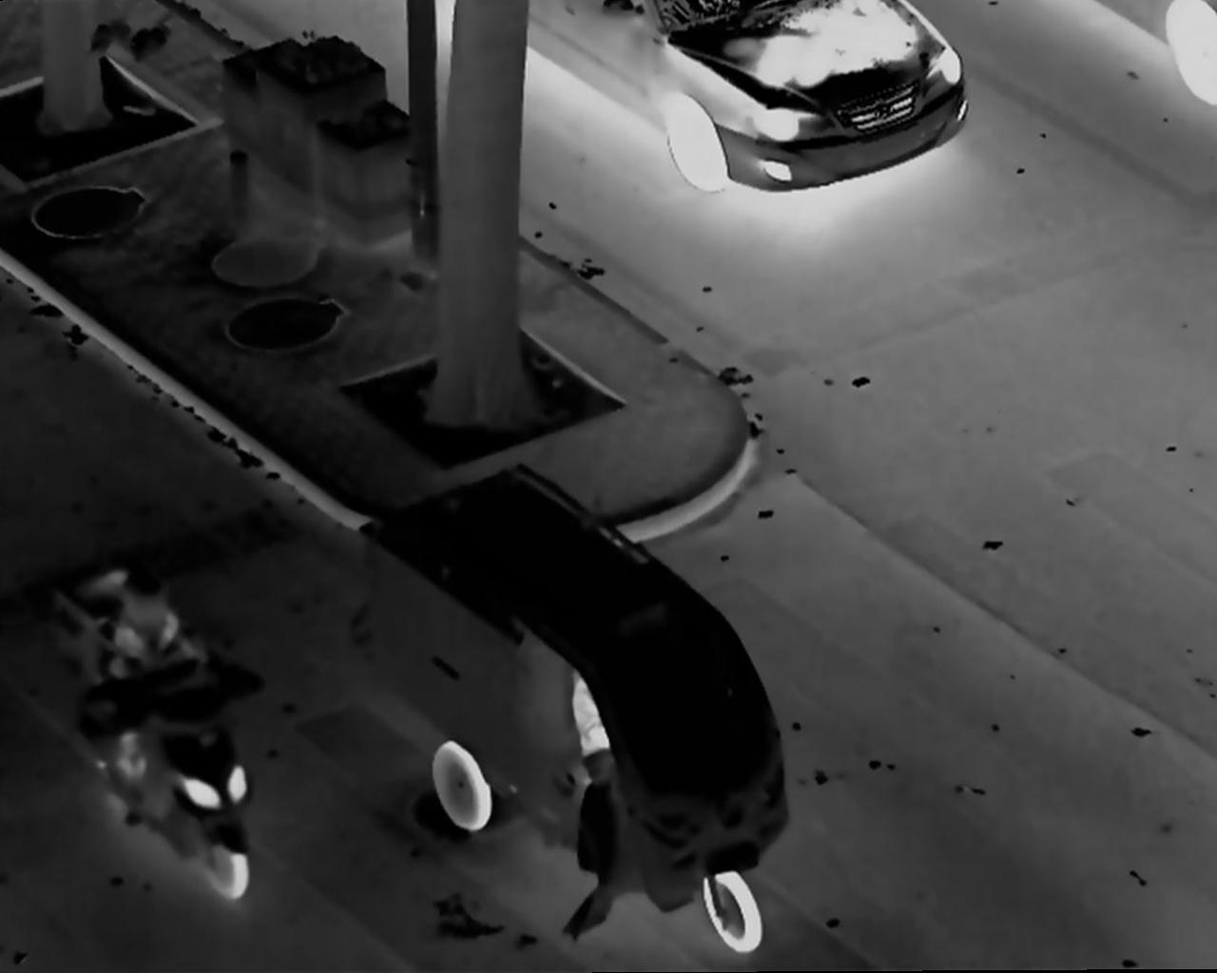person: (101, 568, 201, 746)
